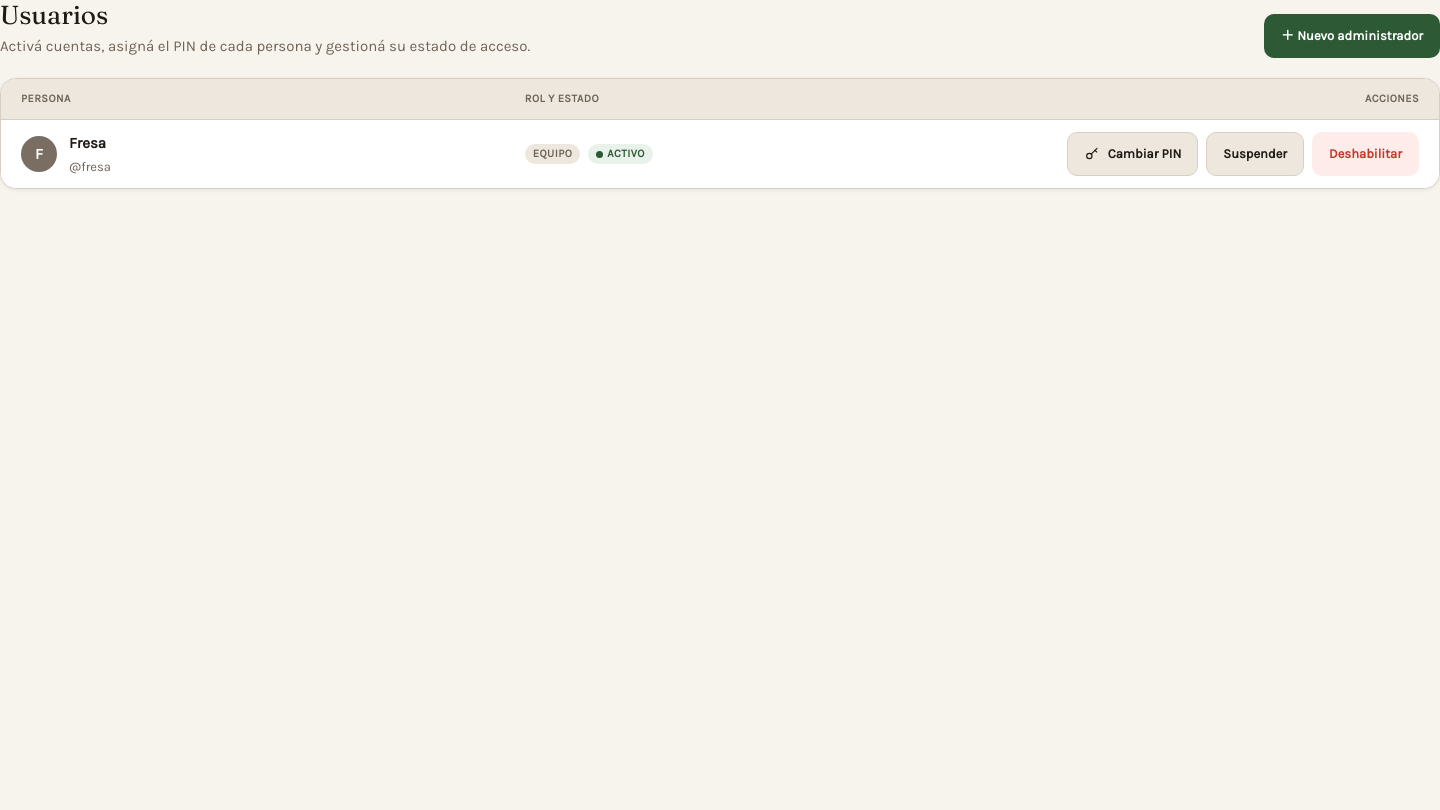
Test case: AdminUsersScreen › suspender a otra persona: pide confirmación, envía el status exacto, refresca la lista
This screenshot has width=1440, height=810.
Click the button "Suspender" at (1255, 154), box [1206,132,1304,176]
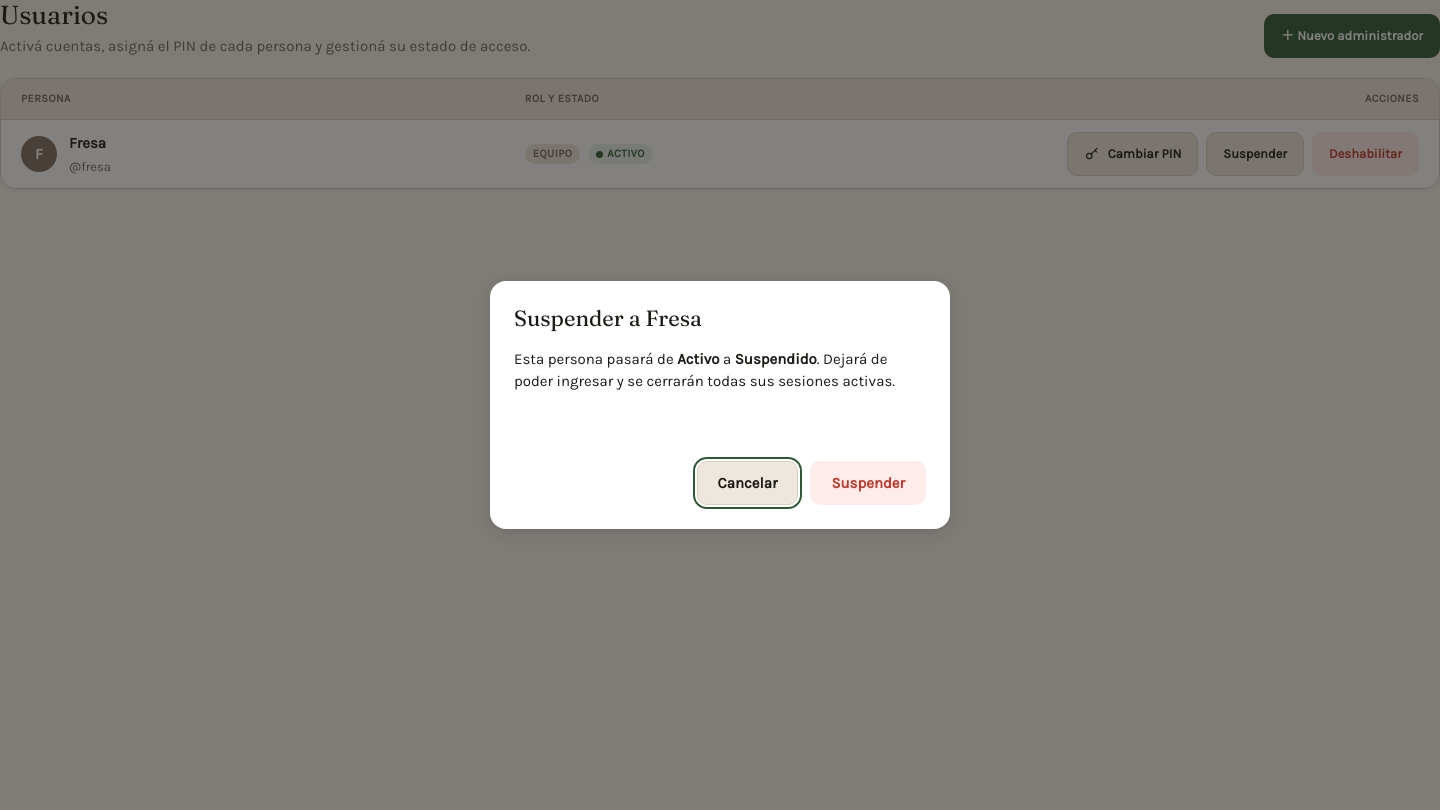
Result: the text "se cerrarán todas sus sesiones activas" is shown at [514,350,895,390]
Click the button "Suspender" at (868, 483), box [810,461,926,505]
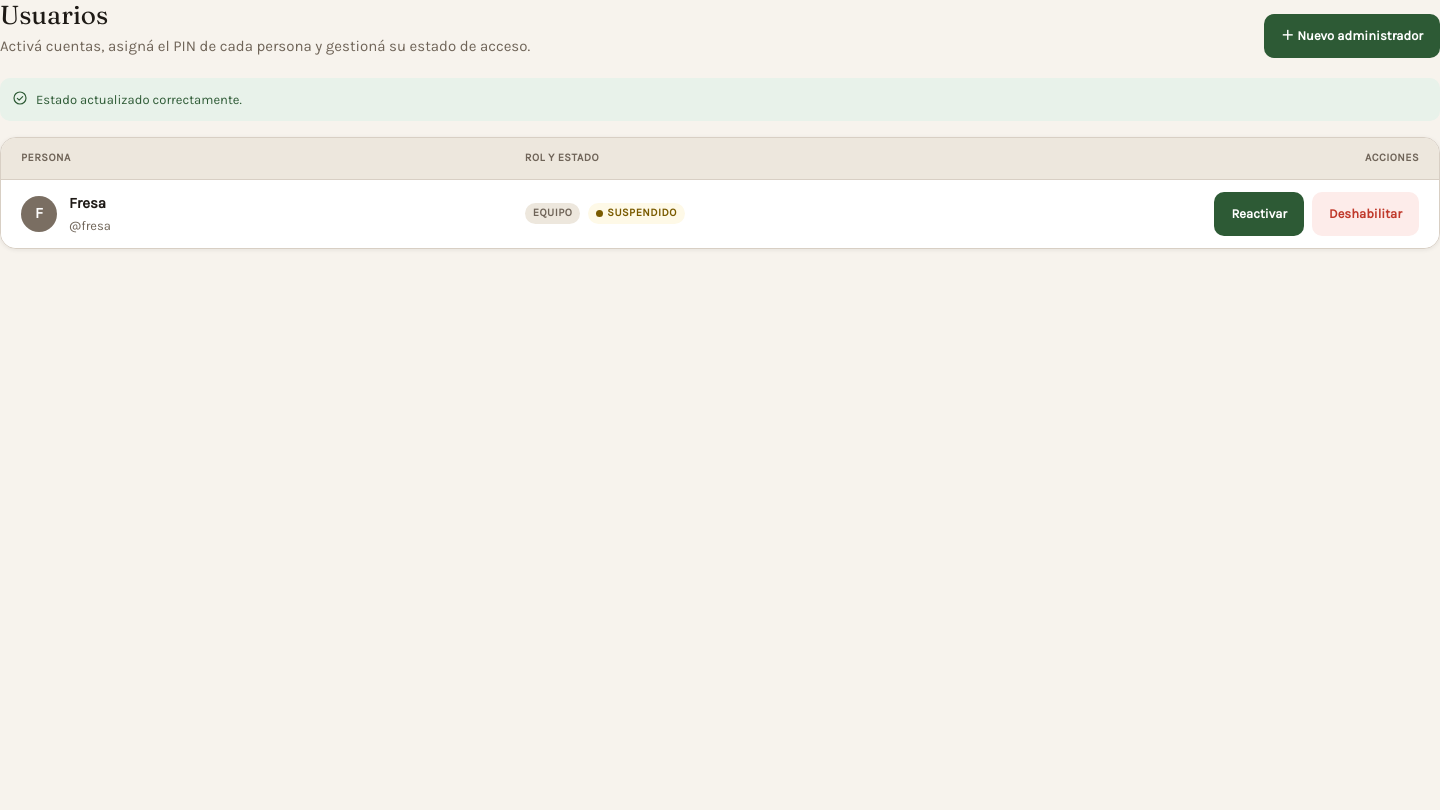
Result: the text "Estado actualizado correctamente." is shown at [0,78,1439,121]
